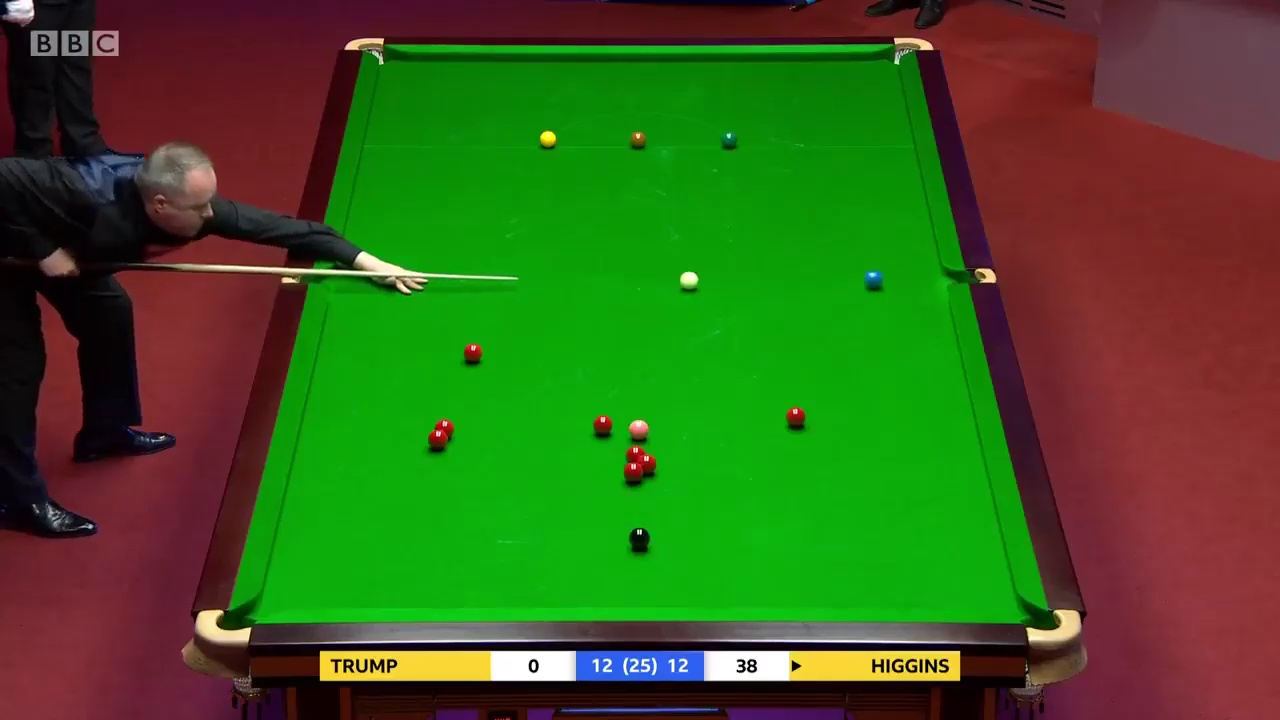ball: (459, 340, 483, 364), (626, 418, 650, 441), (784, 406, 808, 427), (628, 528, 650, 550), (592, 413, 613, 435), (860, 269, 883, 289), (622, 463, 645, 482), (678, 270, 699, 290), (428, 428, 447, 450), (629, 132, 647, 148), (540, 131, 558, 146), (721, 132, 737, 148)
